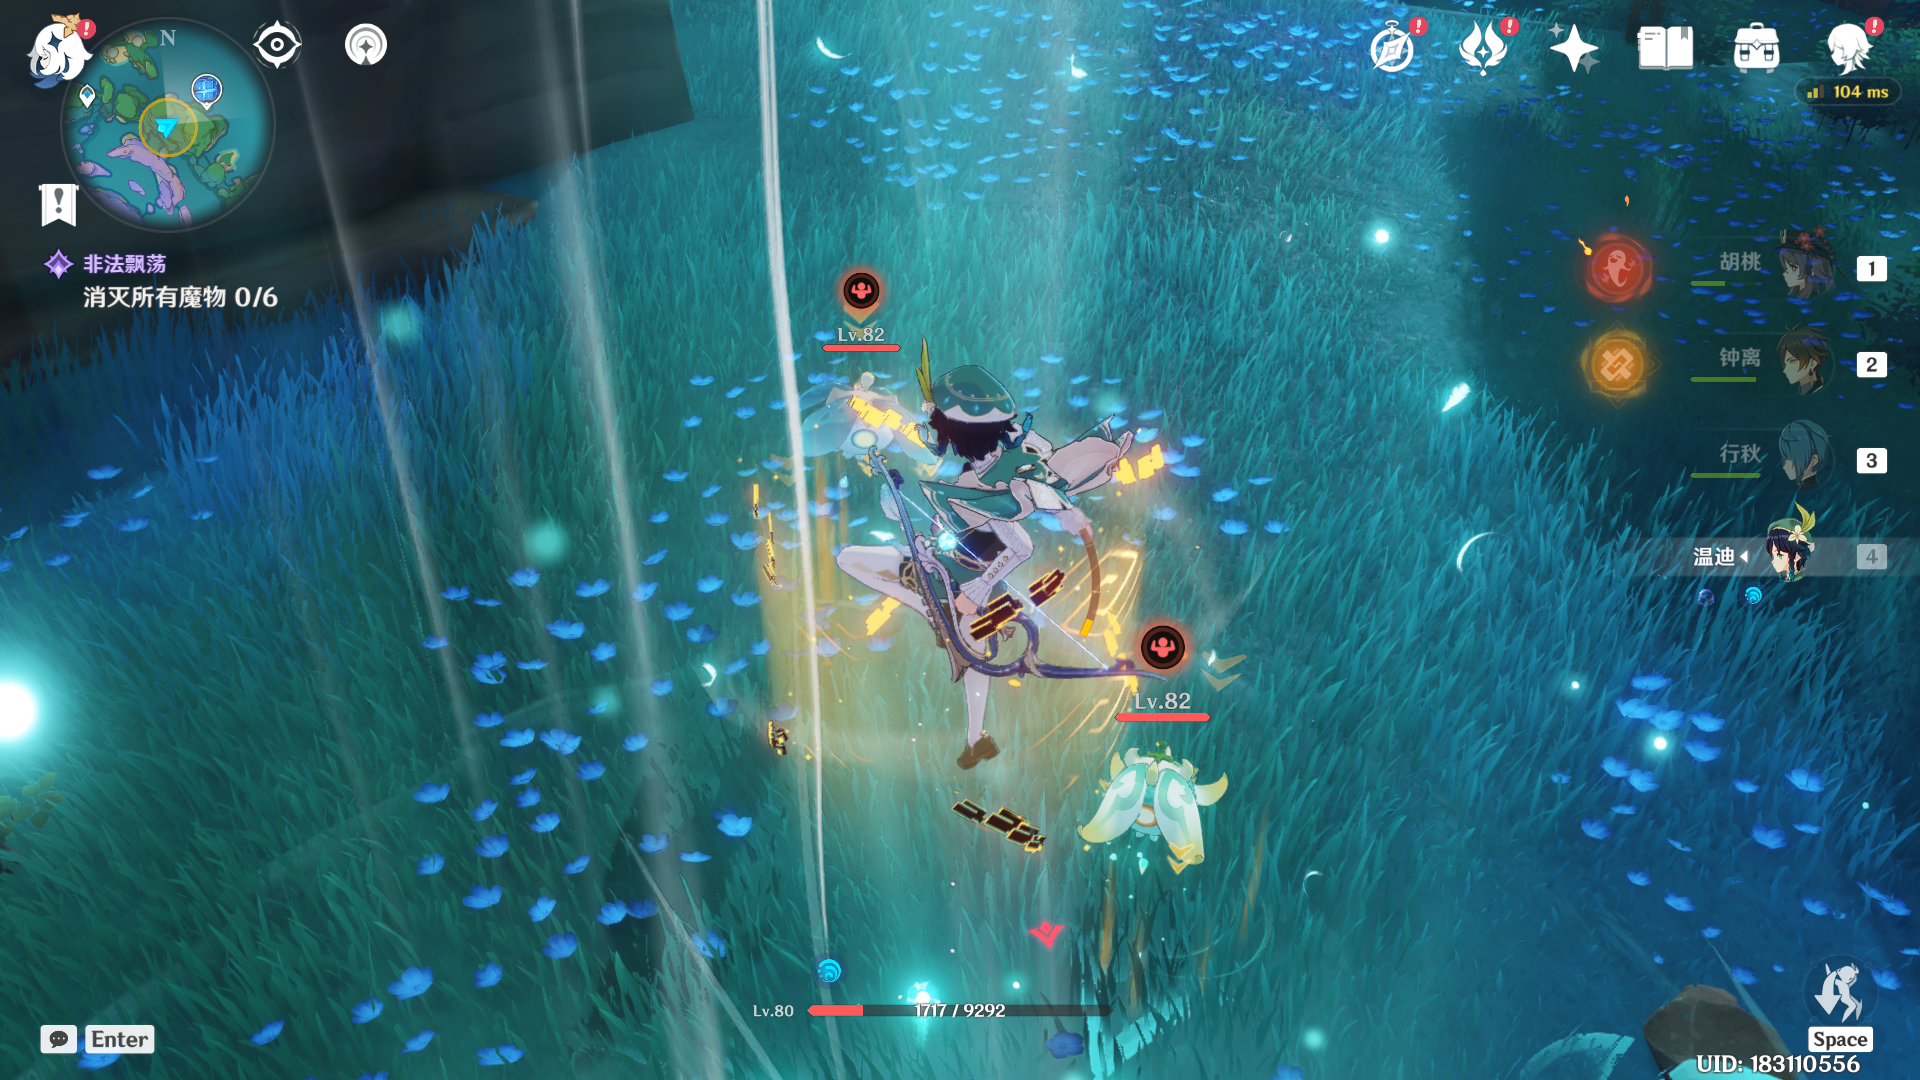character: (808, 334, 1087, 766)
